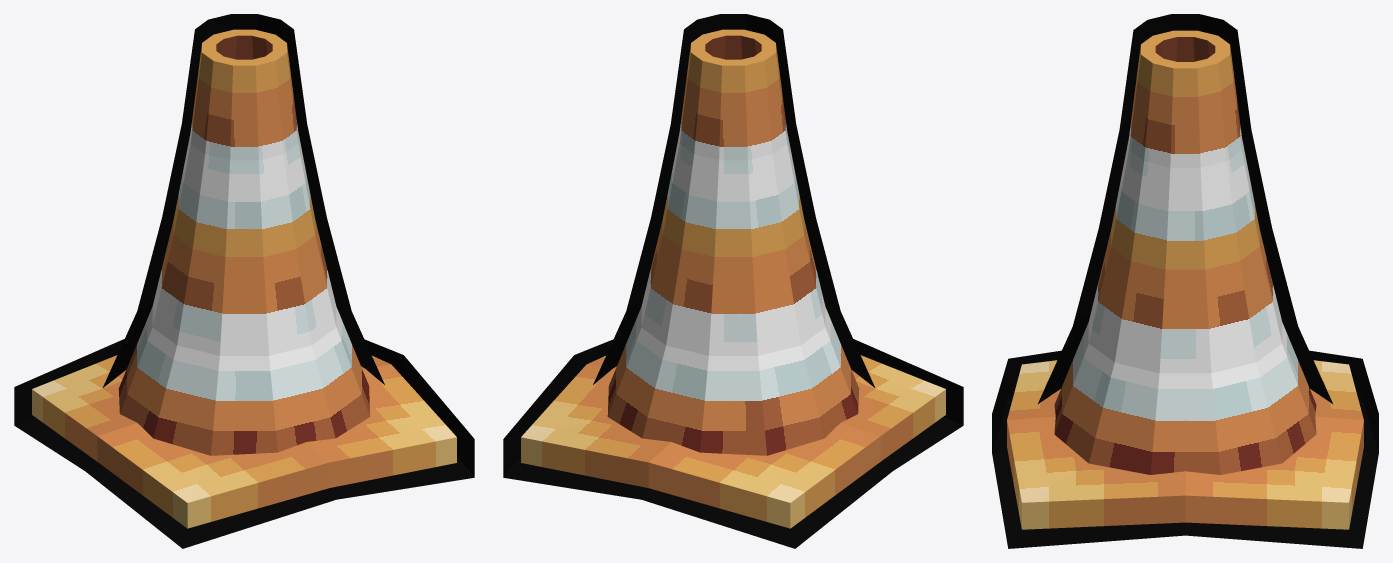
The model's file is hat_cone.fbx.
3 views of the same model, side by side, from view 1: azimuth 30°, elevation 25°; view 2: azimuth 150°, elevation 25°; view 3: azimuth 270°, elevation 25° (orthographic). The views are drawn at different scales.
Parts seen in each view (by area): view 1: cylinder, cylinder_1; view 2: cylinder, cylinder_1; view 3: cylinder, cylinder_1.
Boxes of the visible parts, x1,y1,x2,y2 form: cylinder: (32, 29, 456, 528); cylinder_1: (14, 14, 474, 548); cylinder: (521, 29, 945, 528); cylinder_1: (503, 14, 963, 548); cylinder: (1007, 30, 1363, 529); cylinder_1: (992, 14, 1378, 548).
Bounding box in the file's own units: 81.25 × 102 × 81.25.
Materials: 2 (2 with a texture image).
